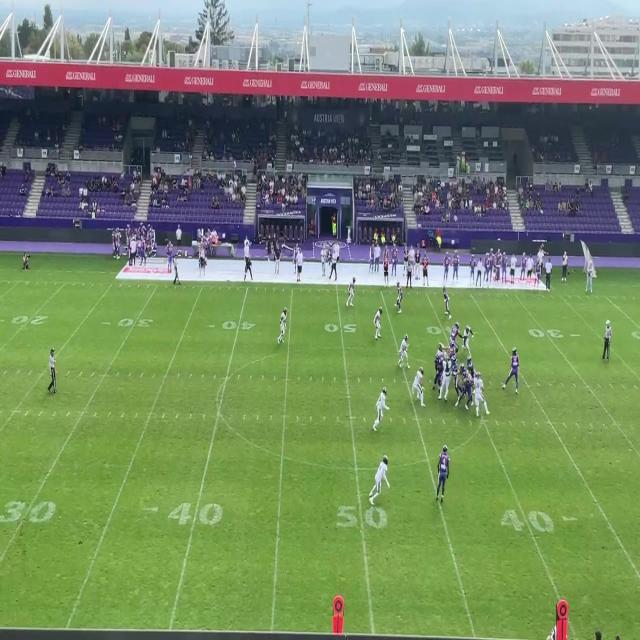3: (0, 496, 35, 529)
4: (166, 495, 193, 532), (498, 506, 527, 536)
5: (335, 502, 360, 534)
american-football-players: (370, 453, 390, 507), (435, 444, 450, 505), (504, 346, 522, 395), (475, 372, 490, 421), (373, 387, 387, 432), (450, 355, 462, 405), (411, 367, 425, 409), (460, 323, 475, 360), (439, 352, 450, 400), (464, 367, 474, 411), (398, 335, 410, 369), (446, 338, 458, 372), (433, 353, 443, 390), (278, 306, 287, 347), (374, 304, 383, 342), (442, 285, 452, 319), (448, 322, 460, 348), (346, 276, 356, 307), (396, 280, 404, 316), (466, 356, 476, 377), (454, 363, 469, 377), (437, 342, 446, 357)
